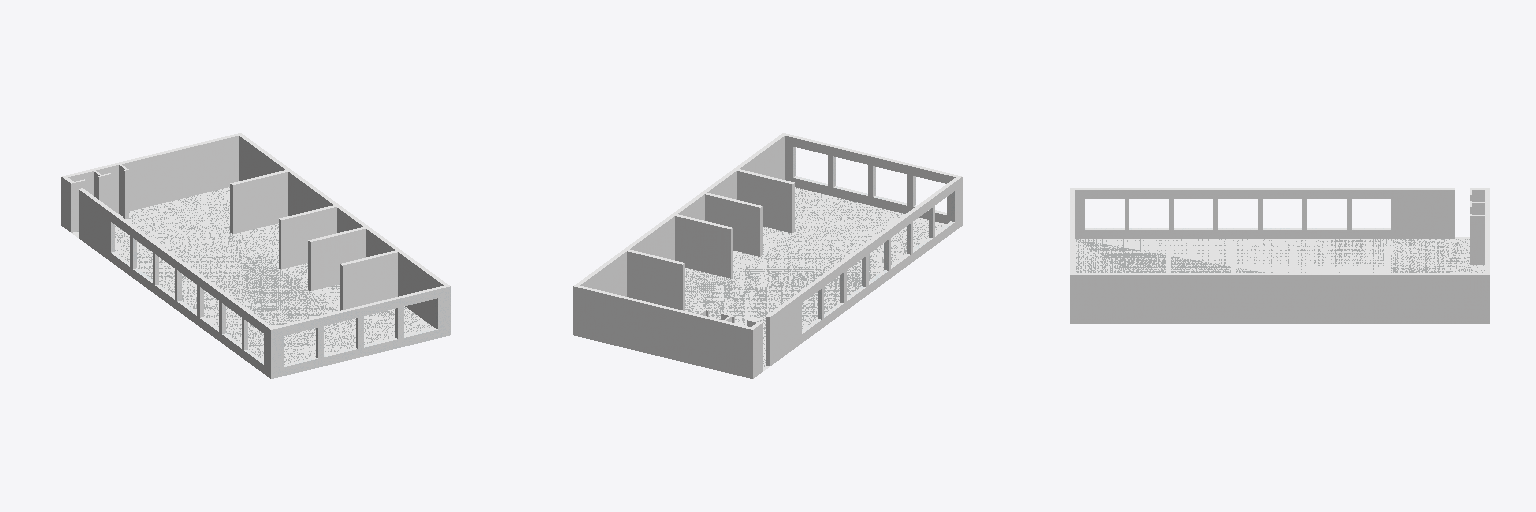
Rendered from Erika_Office_Model.obj.
3 views of the same model, side by side, from view 1: azimuth 30°, elevation 25°; view 2: azimuth 150°, elevation 25°; view 3: azimuth 270°, elevation 25° (orthographic).
Visible parts, largest first — view 1: SketchUp, SketchUp_ID13, SketchUp_ID3; view 2: SketchUp, SketchUp_ID13, SketchUp_ID3; view 3: SketchUp, SketchUp_ID13, SketchUp_ID3.
Boxes of the visible parts, box(x1,y1,x2,y2) form: SketchUp: box(61, 133, 450, 378); SketchUp_ID13: box(61, 134, 449, 378); SketchUp_ID3: box(77, 187, 431, 364); SketchUp: box(573, 133, 962, 378); SketchUp_ID13: box(573, 133, 962, 378); SketchUp_ID3: box(685, 188, 941, 366); SketchUp: box(1070, 188, 1489, 323); SketchUp_ID13: box(1070, 188, 1489, 323); SketchUp_ID3: box(1076, 239, 1484, 272).
Size of the model in its own units: 12.8 by 3.35 by 25.91.